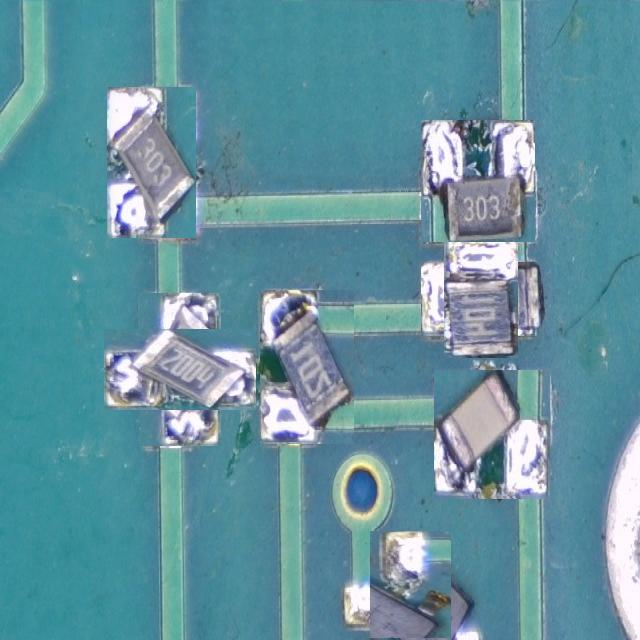Incorrect_installation: (434, 371, 549, 497), (260, 290, 353, 444), (420, 120, 535, 242), (107, 88, 196, 237), (104, 329, 255, 409), (444, 239, 517, 357), (371, 531, 450, 639)
